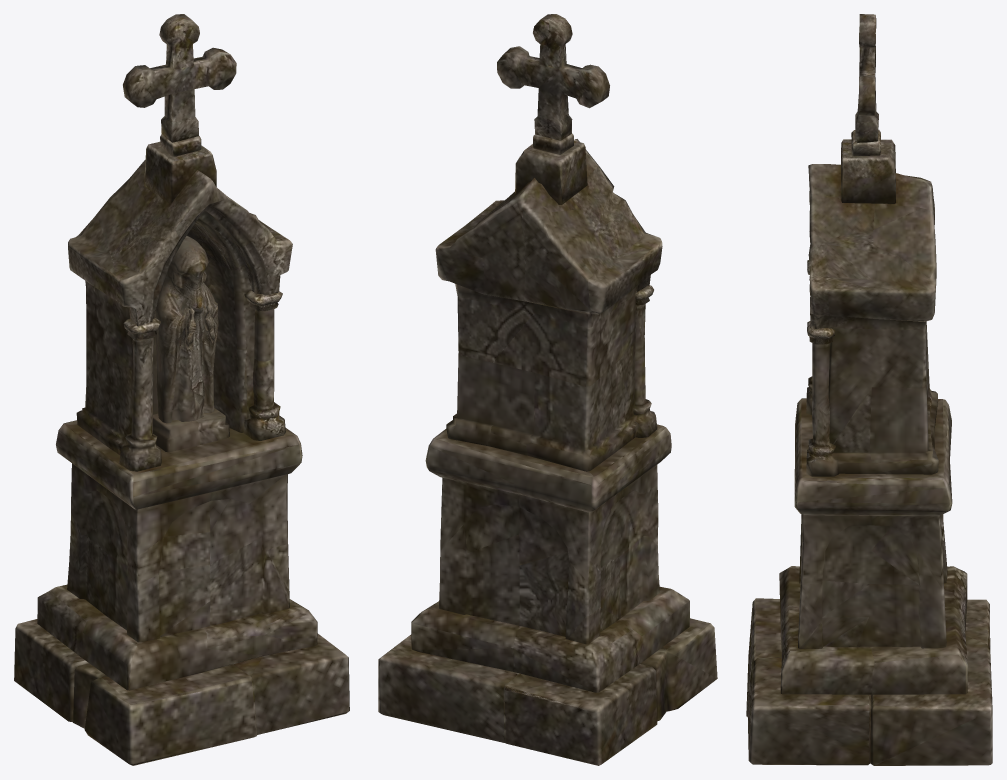
Rendered from h_shrine.glb.
The picture shows the model from 3 angles, left to right: view 1: azimuth 30°, elevation 25°; view 2: azimuth 150°, elevation 25°; view 3: azimuth 270°, elevation 25°; orthographic projection.
Parts seen in each view (by area): view 1: h_shrine; view 2: h_shrine; view 3: h_shrine.
Boxes of the visible parts, <box> form: h_shrine: <box>14,14,349,765</box>; h_shrine: <box>378,14,717,765</box>; h_shrine: <box>746,14,992,765</box>.
Size of the model in its own units: 0.8248 by 2.4 by 0.7718.
1 material, 1 textured.
